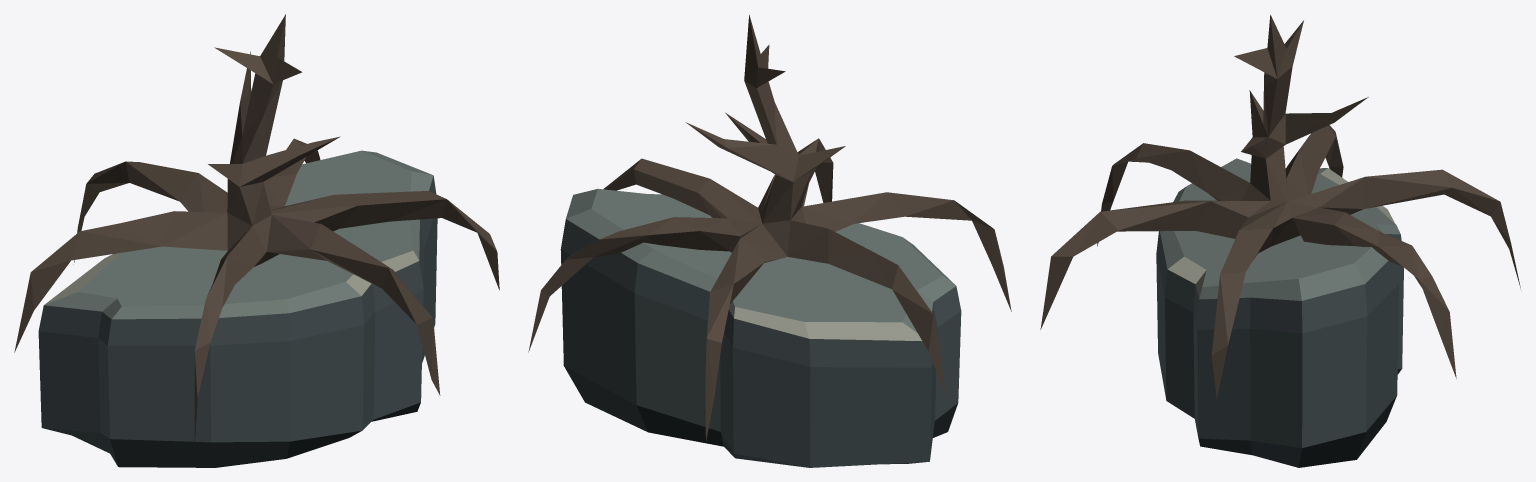
The model's file is BASALT_ROOT_SHRUB.shadow.glb.
3 views of the same model, side by side, from view 1: azimuth 30°, elevation 25°; view 2: azimuth 150°, elevation 25°; view 3: azimuth 270°, elevation 25° (orthographic). The views are drawn at different scales.
Visible parts, largest first — view 1: BASALT_ROOT_SHRUB; view 2: BASALT_ROOT_SHRUB; view 3: BASALT_ROOT_SHRUB.
Part boxes in pixels (bbox=[...]): BASALT_ROOT_SHRUB: bbox=[14, 14, 499, 467]; BASALT_ROOT_SHRUB: bbox=[528, 15, 1011, 467]; BASALT_ROOT_SHRUB: bbox=[1040, 14, 1520, 467].
Bounding box in the file's own units: 0.782 × 0.6974 × 0.7861.
Materials: 1 (1 with a texture image).
